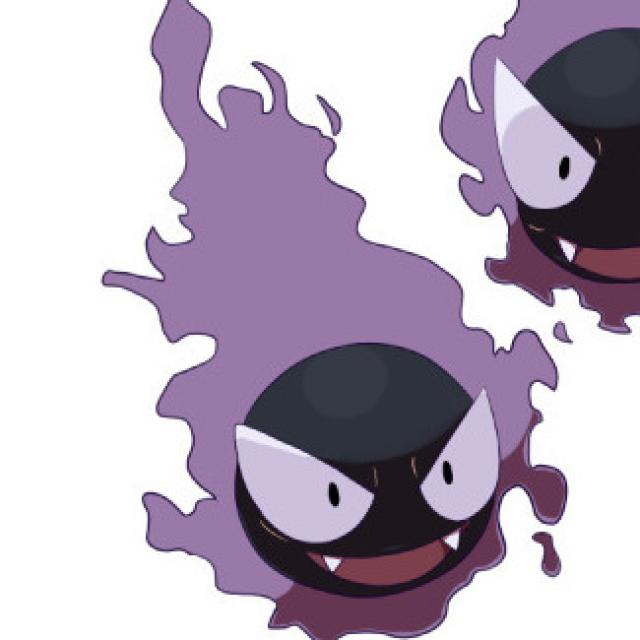Gastly: (202, 311, 534, 627), (461, 0, 640, 297)
